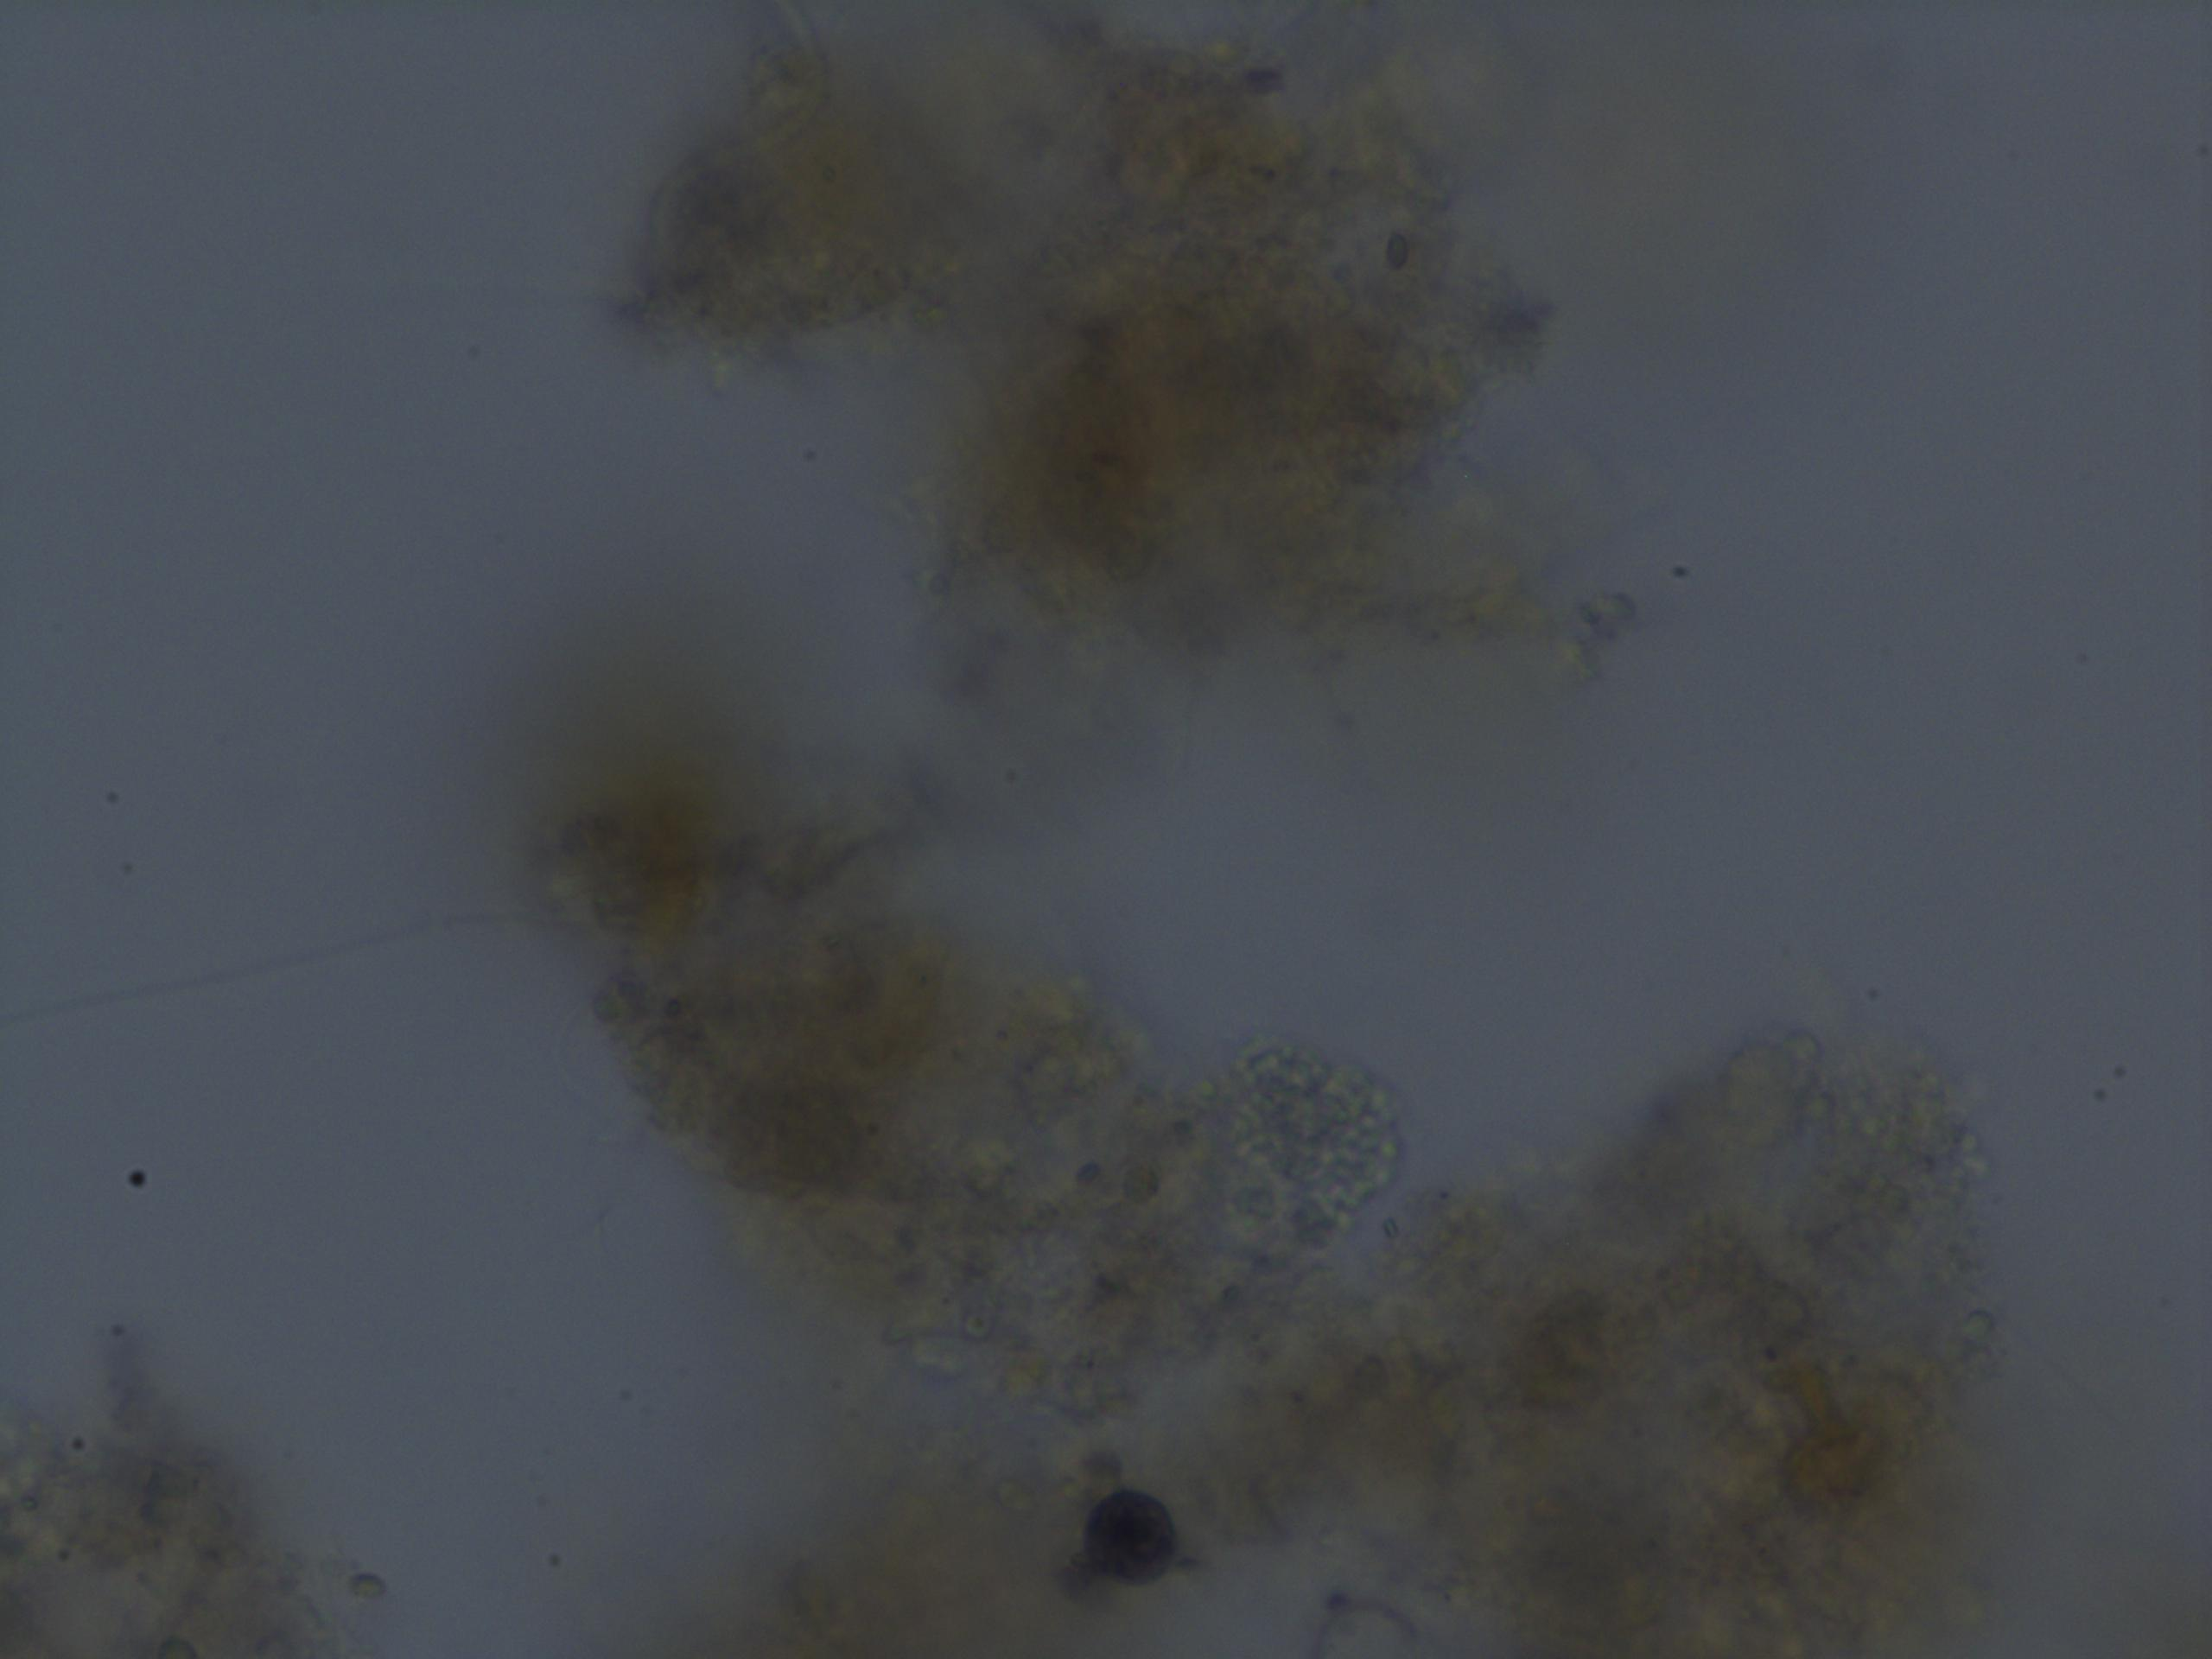open_floc: (489, 16, 2024, 1659)
